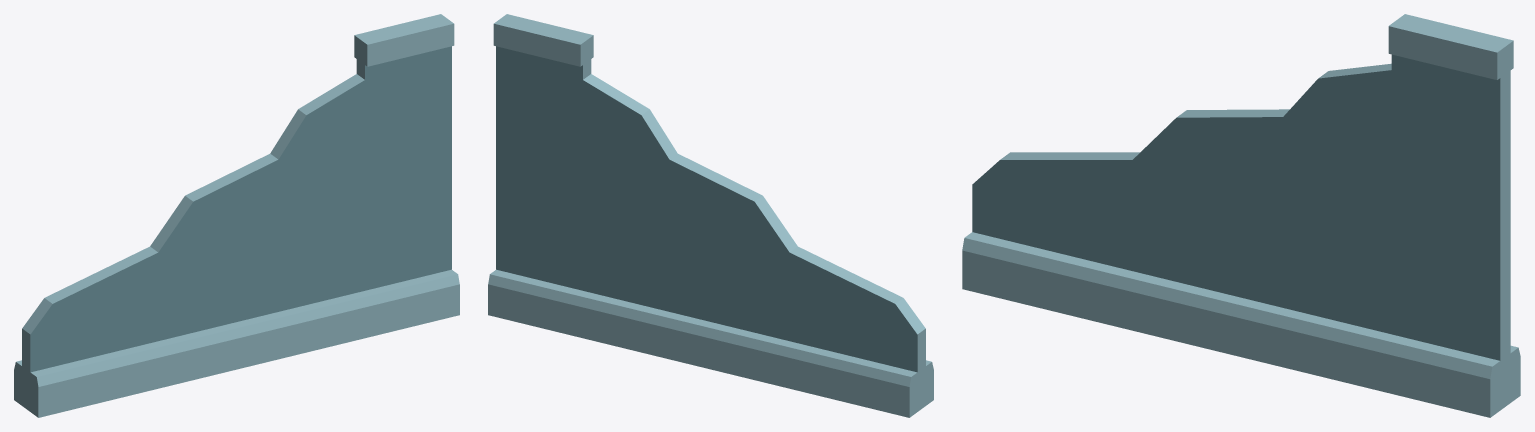
File: stoneWallDamaged.fbx
3 renders of one model, left to right at view 1: azimuth 30°, elevation 25°; view 2: azimuth 150°, elevation 25°; view 3: azimuth 330°, elevation 25°, orthographic. The views are drawn at different scales.
Parts seen in each view (by area): view 1: stoneWallDamaged; view 2: stoneWallDamaged; view 3: stoneWallDamaged.
Boxes of the visible parts, <box> form: stoneWallDamaged: <box>14,14,459,417</box>; stoneWallDamaged: <box>488,14,933,417</box>; stoneWallDamaged: <box>962,14,1520,417</box>.
Bounding box in the file's own units: 10 × 6.52 × 1.
